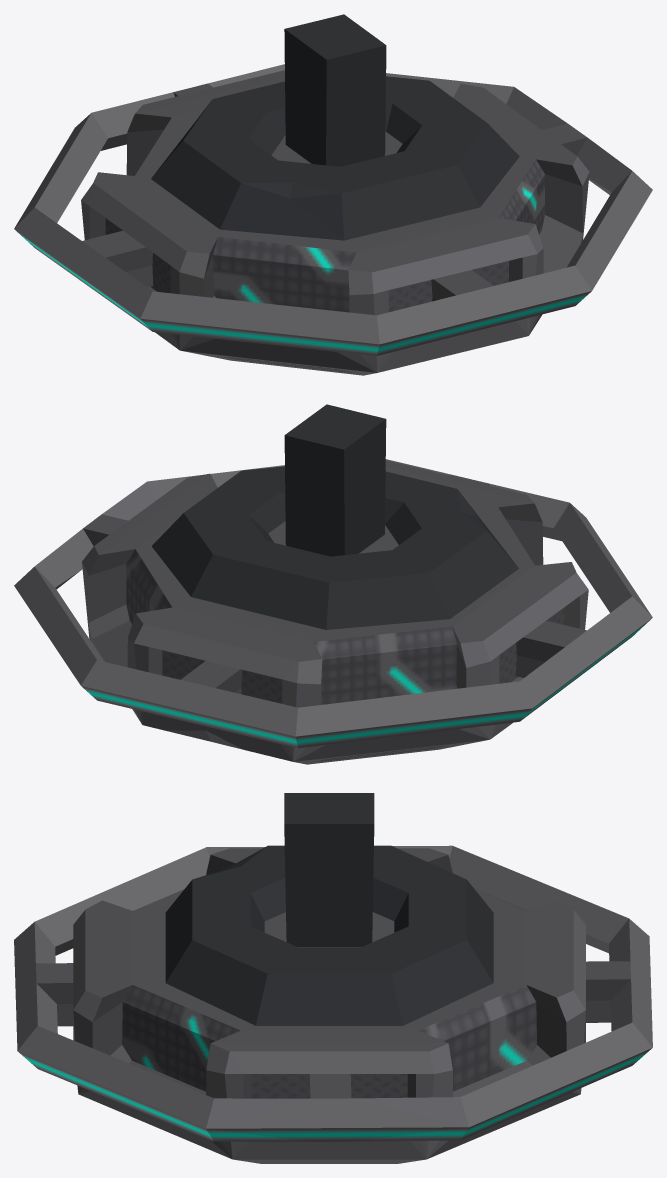
File: SM_Prop_Hover_Pad_01.fbx
3 renders of one model, top to bottom at view 1: azimuth 30°, elevation 25°; view 2: azimuth 150°, elevation 25°; view 3: azimuth 270°, elevation 25°, orthographic. The views are drawn at different scales.
Visible parts, largest first — view 1: SM_Prop_Hover_Pad_01; view 2: SM_Prop_Hover_Pad_01; view 3: SM_Prop_Hover_Pad_01.
Boxes of the visible parts, x1,y1,x2,y2 form: SM_Prop_Hover_Pad_01: (14, 14, 652, 375); SM_Prop_Hover_Pad_01: (14, 404, 652, 764); SM_Prop_Hover_Pad_01: (14, 793, 652, 1163).
Bounding box in the file's own units: 177 × 94.43 × 177.
